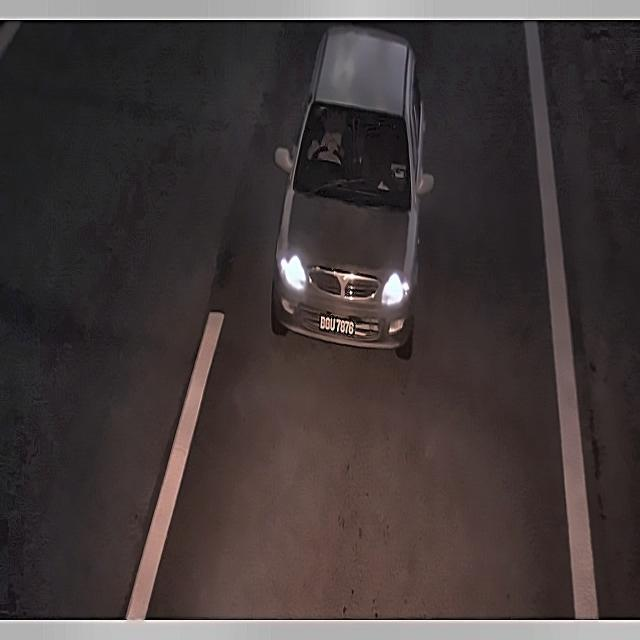car: (314, 302, 362, 344)
